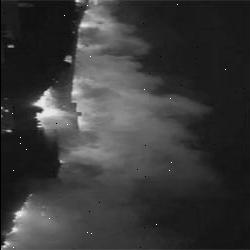fire: (20, 74, 95, 146), (0, 192, 52, 250), (69, 0, 106, 51)
